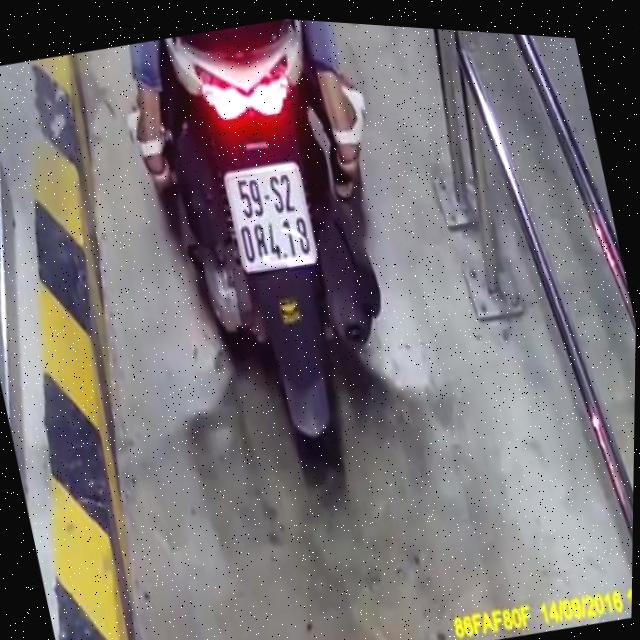motorcycle: (120, 8, 443, 527)
plate: (209, 149, 326, 285)
